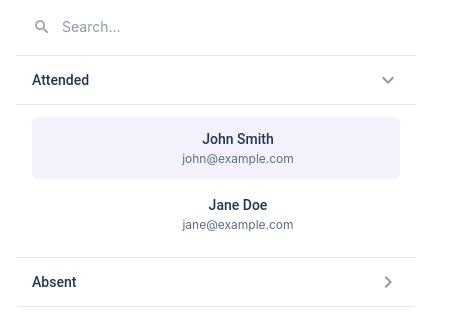
it: SearchableList › filters contacts based on search term
Type "john" into the field with placeholder "Search..." at point(246, 27), box [60,16,432,38]
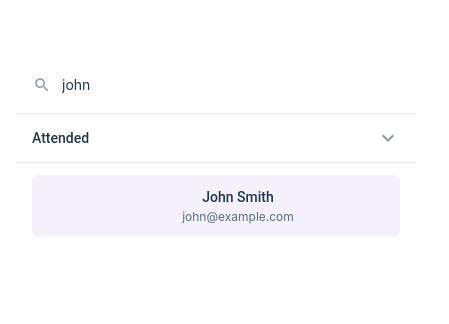
Expected: the text "John Smith" is shown, [202,189,274,205]
Expected: the button "Jane Doe" is gone
